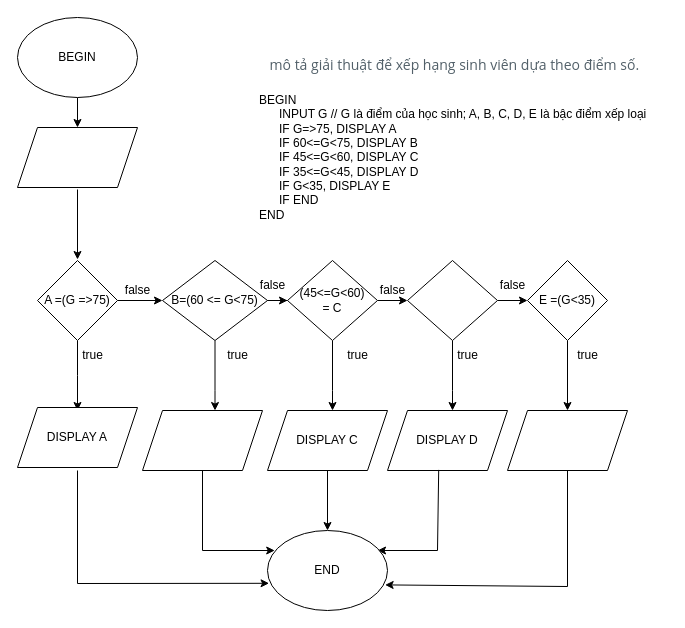
Image size: 685x628. Some labels were removed from this diagram. Here are the shapes that lost their labels. From the top down, the centre of each, then its label:
the point at 77,157: INPUT G,A,B,C D,E
the point at 452,300: (35<=G<45) = D
the point at 202,440: DISPLAY B
the point at 567,440: DISPLAY E
